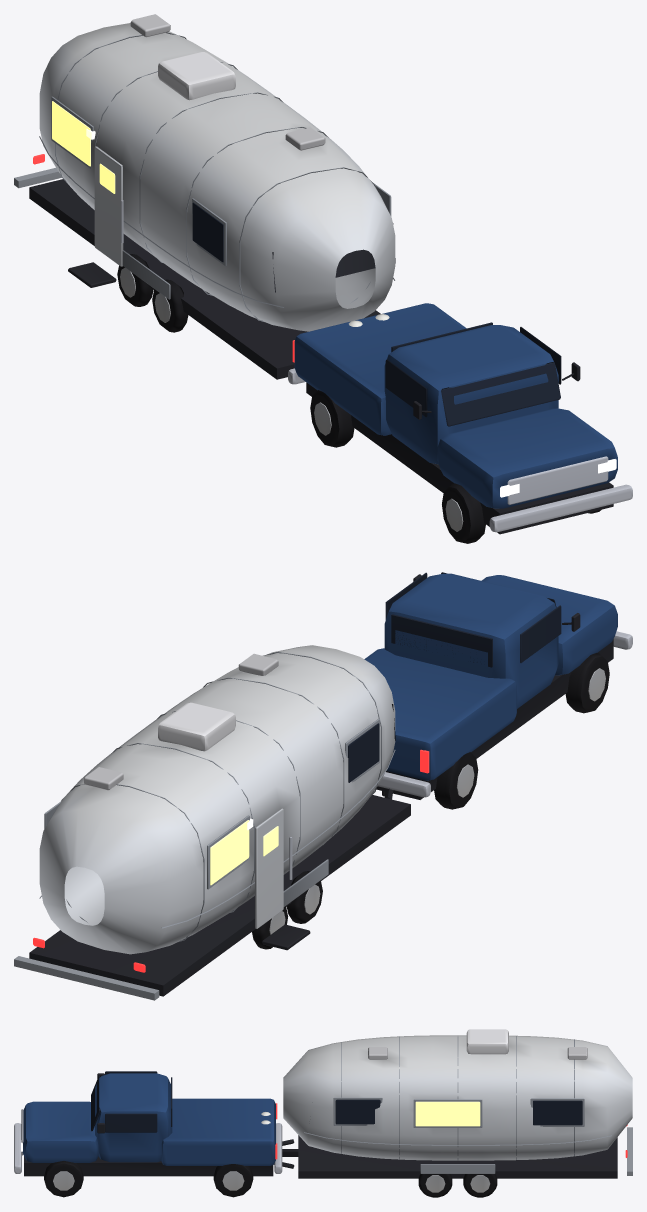
Rendered from trailer.glb.
3 views of the same model, one above another, from view 1: azimuth 30°, elevation 25°; view 2: azimuth 150°, elevation 25°; view 3: azimuth 270°, elevation 25° (orthographic). The views are drawn at different scales.
Visible parts, largest first — view 1: shell, cab, hood, bed, t_frame, k_screen, k_frame, t_ac, door, grille, k_bump_f, k_tyre_53_0 (+8 smaller); view 2: shell, cab, bed, t_frame, hood, door, t_ac, k_frame, k_back, t_bumper, k_tyre_53_0, win_3 (+9 smaller); view 3: shell, bed, t_frame, cab, hood, k_frame, win_1, win_0, t_ac, win_2, k_side_1, k_tyre_53_1 (+18 smaller).
Part boxes in pixels (bbox=[...]): shell: bbox=[39, 23, 395, 331]; cab: bbox=[384, 325, 558, 464]; hood: bbox=[437, 408, 617, 508]; bed: bbox=[294, 303, 466, 435]; t_frame: bbox=[29, 179, 380, 379]; k_screen: bbox=[441, 362, 560, 426]; k_frame: bbox=[306, 382, 613, 534]; t_ac: bbox=[158, 52, 235, 100]; door: bbox=[94, 146, 123, 266]; grille: bbox=[507, 456, 608, 504]; k_bump_f: bbox=[489, 484, 632, 532]; k_tyre_53_0: bbox=[442, 483, 485, 543]; shell: bbox=[39, 645, 395, 954]; cab: bbox=[384, 573, 558, 708]; bed: bbox=[364, 648, 516, 780]; t_frame: bbox=[29, 795, 410, 996]; hood: bbox=[481, 575, 617, 675]; door: bbox=[255, 808, 283, 928]; t_ac: bbox=[158, 702, 235, 751]; k_frame: bbox=[376, 639, 613, 799]; k_back: bbox=[391, 614, 492, 667]; t_bumper: bbox=[14, 956, 159, 1000]; k_tyre_53_0: bbox=[565, 653, 609, 713]; win_3: bbox=[210, 820, 249, 885]; shell: bbox=[283, 1035, 632, 1160]; bed: bbox=[161, 1098, 275, 1165]; t_frame: bbox=[298, 1135, 617, 1178]; cab: bbox=[95, 1073, 172, 1162]; hood: bbox=[22, 1101, 98, 1162]; k_frame: bbox=[24, 1156, 273, 1176]; win_1: bbox=[415, 1101, 480, 1126]; win_0: bbox=[533, 1100, 582, 1125]; t_ac: bbox=[466, 1029, 508, 1054]; win_2: bbox=[335, 1099, 380, 1124]; k_side_1: bbox=[105, 1113, 157, 1132]; k_tyre_53_1: bbox=[44, 1161, 83, 1197].
Bounding box in the file's own units: 2.87 × 3.12 × 12.41.
